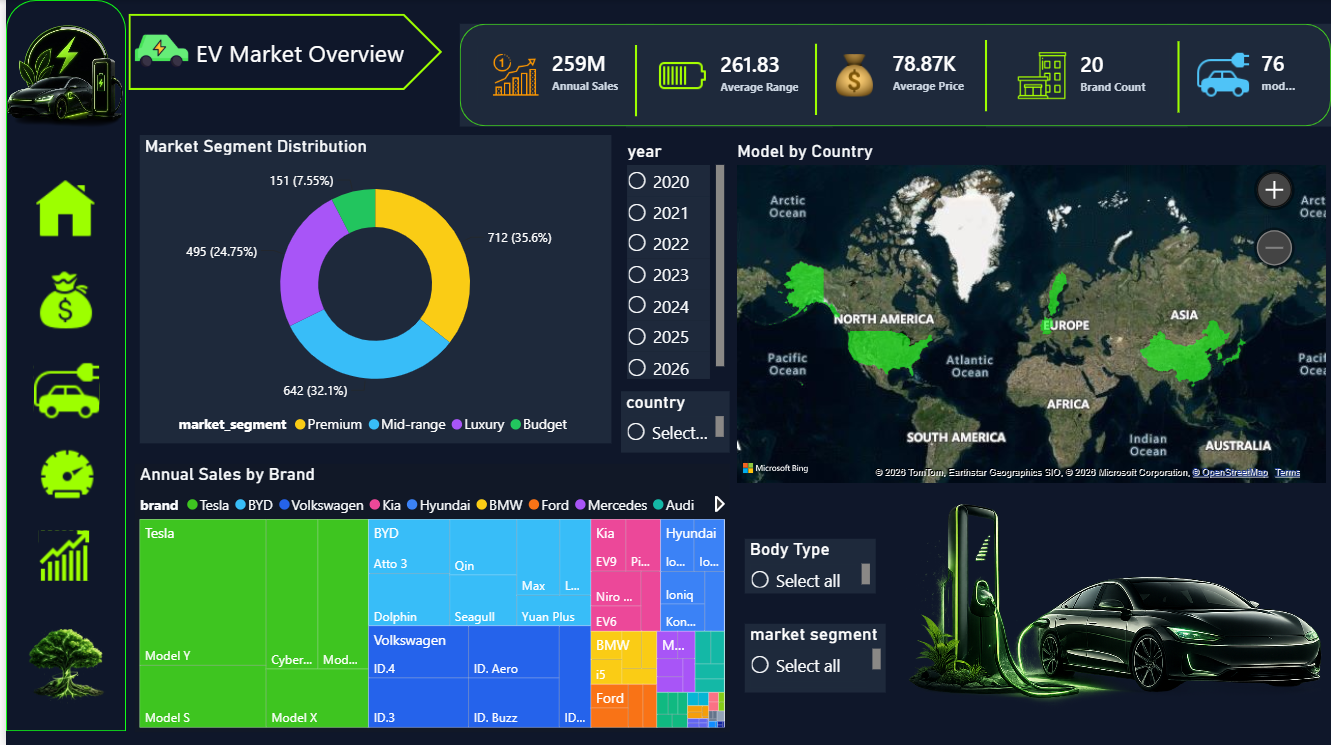

This screenshot's page, from the dashboard's own definition file:
{"tool":"powerbi","page":{"name":"Market Overview","canvas":[1280,720],"ordinal":1},"visuals":[{"type":"cardVisual","fields":{"Data":["Count(ev_market_2026.model)"]},"box":[1120.8,22.9,158,98.9],"z":0},{"type":"cardVisual","fields":{"Data":["Count(ev_market_2026.brand)"]},"box":[945.8,22.9,194.2,100.1],"z":1000},{"type":"cardVisual","fields":{"Data":["Avg(ev_market_2026.price_usd)"]},"box":[764.9,22.9,203.9,98.9],"z":2000},{"type":"cardVisual","fields":{"Data":["Avg(ev_market_2026.range_miles)"]},"box":[598.4,22.9,199.1,100.1],"z":3000},{"type":"cardVisual","fields":{"Data":["Sum(ev_market_2026.annual_sales_units)"]},"box":[437.9,22.9,187,98.9],"z":4000},{"type":"filledMap","title":"Model by Country","fields":{"Category":["ev_market_2026.country_of_origin"]},"box":[700.9,135.1,577.9,336.6],"z":5000},{"type":"shape","box":[0,0,115.8,705.8],"z":6000},{"type":"donutChart","title":"Market Segment Distribution","fields":{"Category":["ev_market_2026.market_segment"],"Y":["CountNonNull(ev_market_2026.model)"]},"box":[129.1,130.3,454.8,298],"z":7000},{"type":"image","box":[1.2,16.9,117,138.7],"z":8000},{"type":"treemap","title":"Annual Sales by Brand","fields":{"Details":["ev_market_2026.model"],"Group":["ev_market_2026.brand"],"Values":["Sum(ev_market_2026.annual_sales_units)"]},"box":[124.3,447.6,574.3,259.4],"z":9000},{"type":"image","box":[4.8,573.1,105,147.2],"z":10000},{"type":"listSlicer","fields":{"Values":["ev_market_2026.year"]},"box":[594.8,135.1,103.8,235.3],"z":11000},{"type":"listSlicer","fields":{"Values":["ev_market_2026.country_of_origin"]},"box":[593.6,377.6,105,59.1],"z":12000},{"type":"listSlicer","fields":{"Values":["ev_market_2026.market_segment"]},"box":[713,602,136.3,66.4],"z":13000},{"type":"listSlicer","fields":{"Values":["ev_market_2026.body_type"]},"box":[713,520,126.7,53.1],"z":14000},{"type":"image","box":[867.4,483.8,411.4,236.5],"z":15000},{"type":"shape","box":[437.9,22.9,840.9,98.9],"z":16000},{"type":"shape","box":[1090.6,39.8,82,68.8],"z":17000},{"type":"shape","box":[904.8,38.6,82,68.8],"z":18000},{"type":"shape","box":[740.8,42.2,82,68.8],"z":19000},{"type":"shape","box":[567,43.4,82,68.8],"z":20000},{"type":"shape","box":[118.2,13.3,302.8,73.6],"z":21000},{"type":"image","box":[118.2,16.9,62.7,60.3],"z":22000},{"type":"actionButton","box":[24.1,166.5,66.4,71.2],"z":23000},{"type":"actionButton","box":[24.1,257,70,67.6],"z":24000},{"type":"actionButton","box":[22.9,341.4,71.2,71.2],"z":25000},{"type":"actionButton","box":[27.7,424.7,62.7,66.4],"z":26000},{"type":"actionButton","box":[27.7,507.9,67.6,56.7],"z":27000}]}

Visuals, with their boxes in screenshot pixels (x1, y1, x2, y2), scaled from the page's 1280x720 canvas onto the 1331x745 screenshot:
cardVisual - Count(ev_market_2026.model): region(1165, 24, 1330, 126)
cardVisual - Count(ev_market_2026.brand): region(983, 24, 1185, 127)
cardVisual - Avg(ev_market_2026.price_usd): region(795, 24, 1007, 126)
cardVisual - Avg(ev_market_2026.range_miles): region(622, 24, 829, 127)
cardVisual - Sum(ev_market_2026.annual_sales_units): region(455, 24, 650, 126)
"Model by Country" filledMap: region(729, 140, 1330, 488)
shape: region(0, 0, 120, 730)
"Market Segment Distribution" donutChart: region(134, 135, 607, 443)
image: region(1, 17, 123, 161)
"Annual Sales by Brand" treemap: region(129, 463, 726, 732)
image: region(5, 593, 114, 744)
listSlicer - ev_market_2026.year: region(618, 140, 726, 383)
listSlicer - ev_market_2026.country_of_origin: region(617, 391, 726, 452)
listSlicer - ev_market_2026.market_segment: region(741, 623, 883, 692)
listSlicer - ev_market_2026.body_type: region(741, 538, 873, 593)
image: region(902, 501, 1330, 744)
shape: region(455, 24, 1330, 126)
shape: region(1134, 41, 1219, 112)
shape: region(941, 40, 1026, 111)
shape: region(770, 44, 856, 115)
shape: region(590, 45, 675, 116)
shape: region(123, 14, 438, 90)
image: region(123, 17, 188, 80)
actionButton: region(25, 172, 94, 246)
actionButton: region(25, 266, 98, 336)
actionButton: region(24, 353, 98, 427)
actionButton: region(29, 439, 94, 508)
actionButton: region(29, 526, 99, 584)
